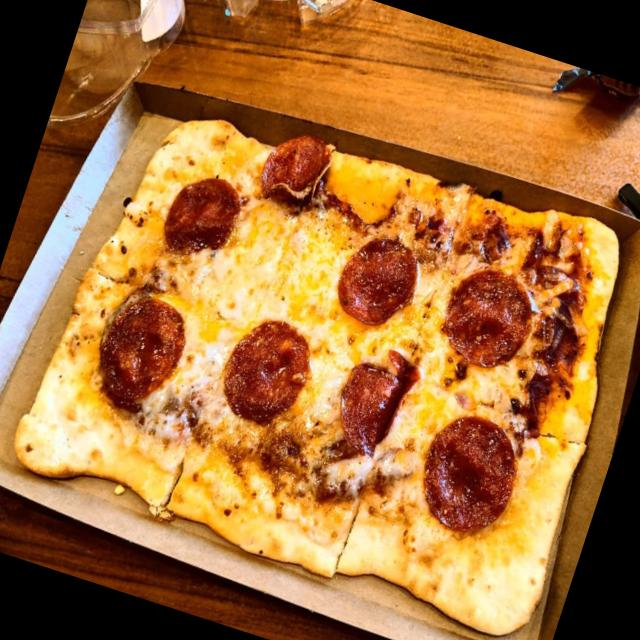pepperoni: (406, 402, 534, 547), (79, 285, 198, 422), (433, 253, 547, 381), (210, 309, 320, 436), (322, 336, 426, 470), (327, 222, 432, 338), (153, 162, 252, 273), (252, 125, 342, 219)
pizza: (11, 120, 625, 640)
